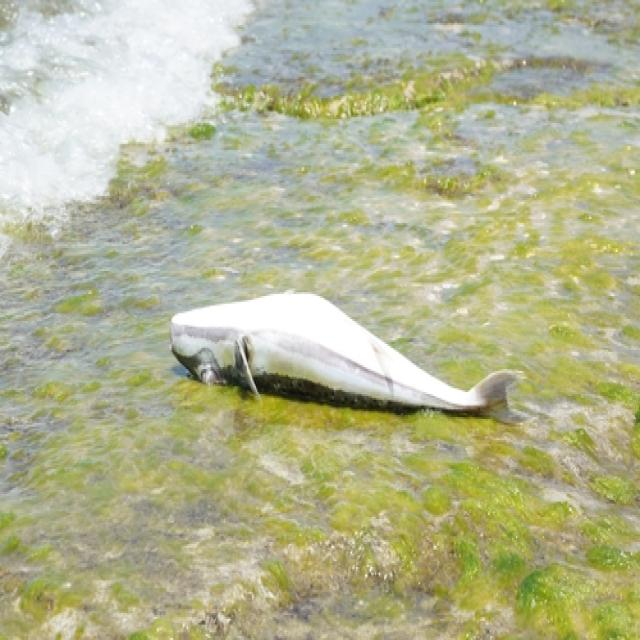Balik: (172, 294, 516, 415)
